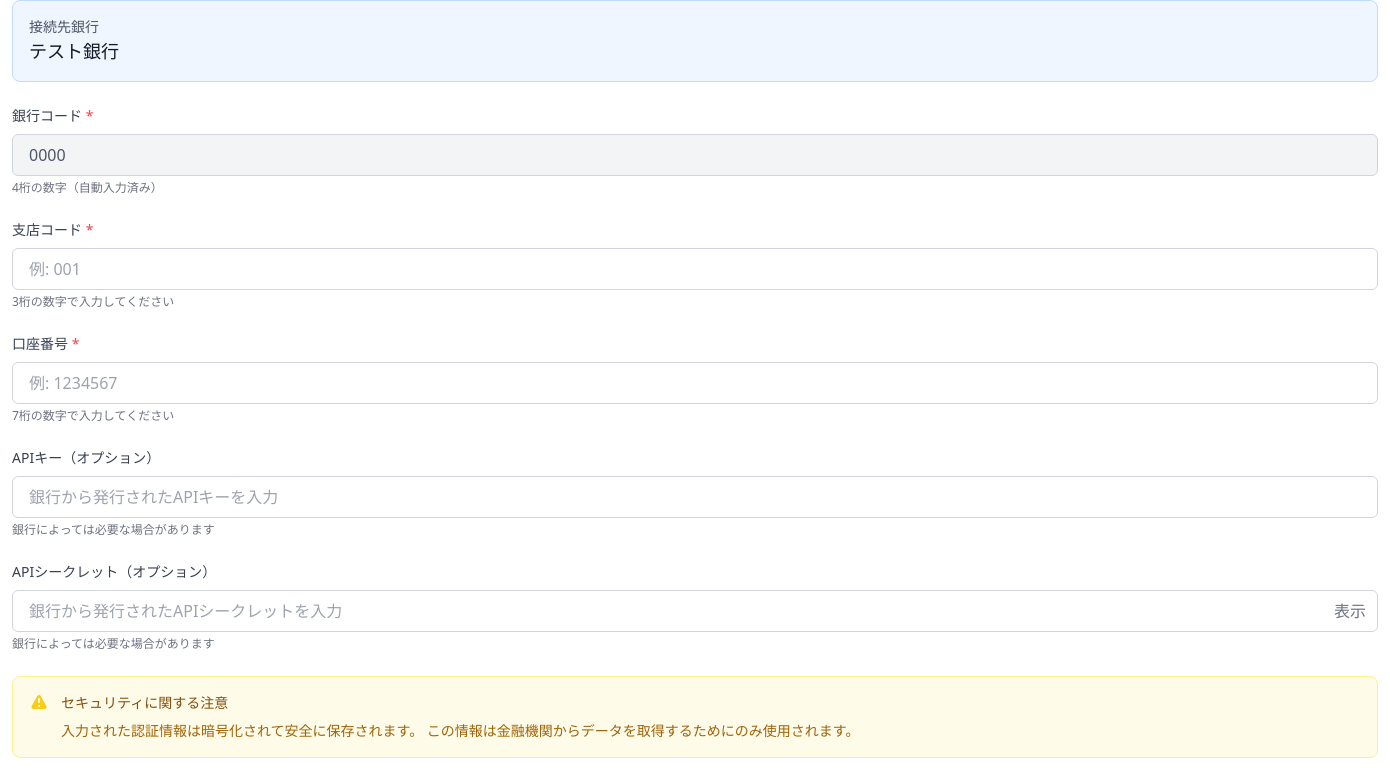
BankCredentialsForm › should toggle API secret visibility
This screenshot has width=1390, height=768.
Click the button "表示" at {"x": 1350, "y": 611}, box [1334,599,1366,623]
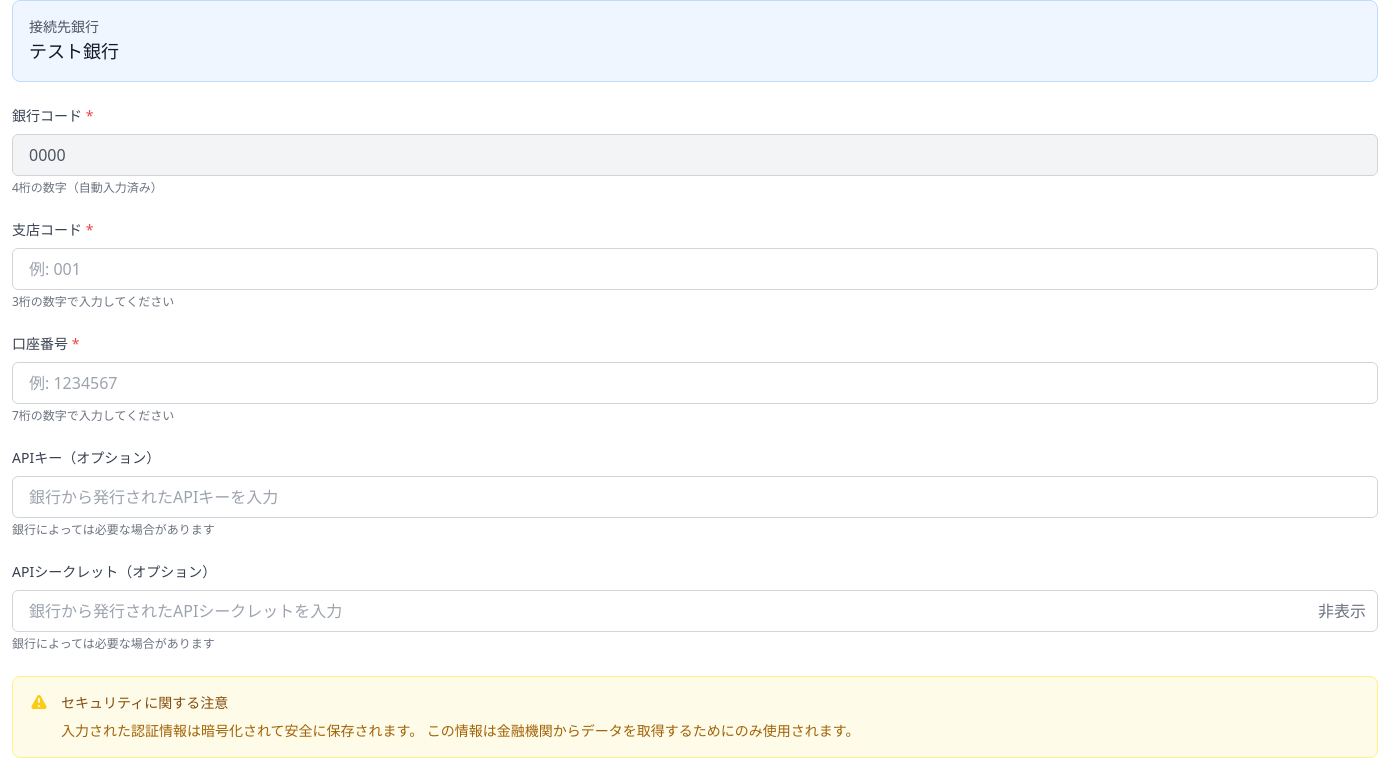
expect the button "非表示" is shown: met, box [1318,599,1366,623]
